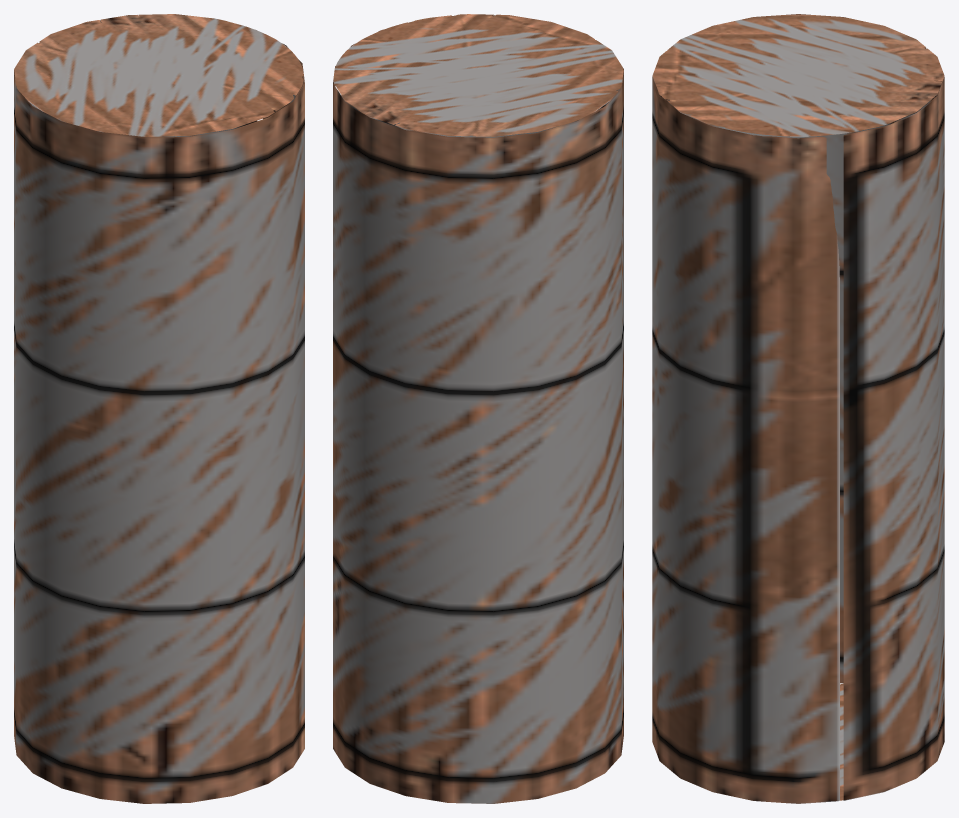
Rendered from silo.fbx.
3 renders of one model, left to right at view 1: azimuth 30°, elevation 25°; view 2: azimuth 150°, elevation 25°; view 3: azimuth 270°, elevation 25°, orthographic.
Visible parts, largest first — view 1: pCylinder1; view 2: pCylinder1; view 3: pCylinder1.
Boxes of the visible parts, x1,y1,x2,y2 form: pCylinder1: (14,14,304,803); pCylinder1: (333,14,623,803); pCylinder1: (652,14,944,803).
Size of the model in its own units: 6.69 by 16.85 by 6.69.
